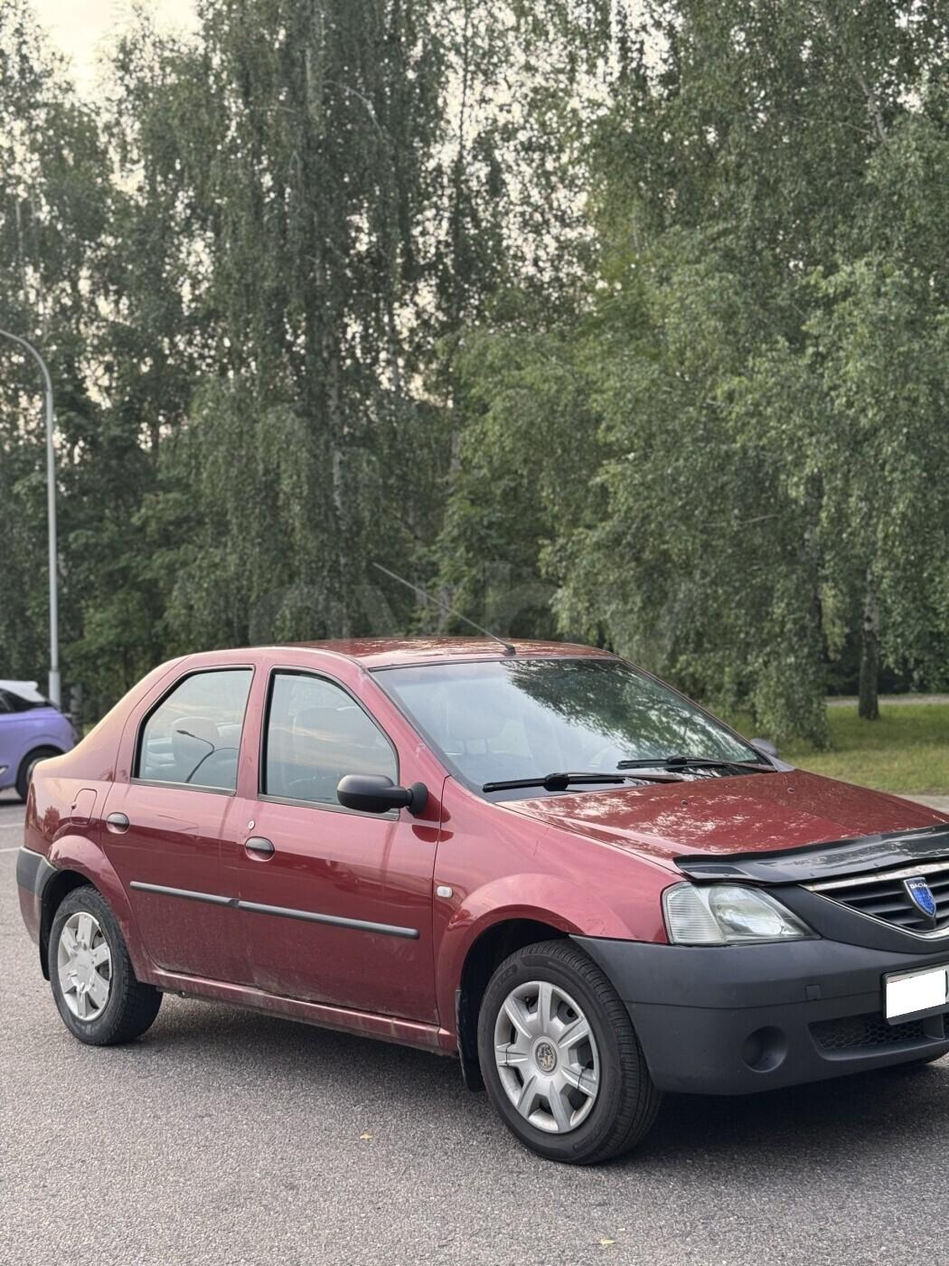Logan_2004-2009: (11, 633, 949, 1168)
